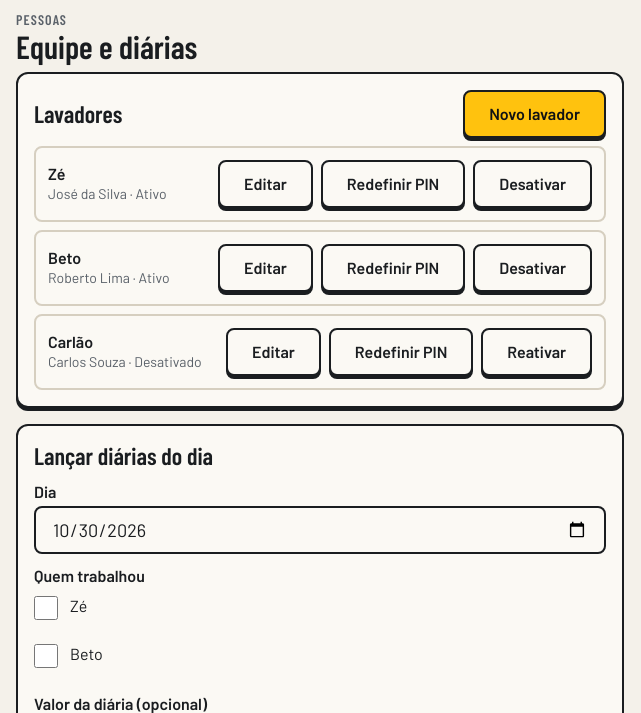
Test: Equipe e diárias › lança as diárias do dia dos lavadores marcados com a diária padrão
Click the checkbox labelled "Zé": (46, 608) [34,596,58,620]
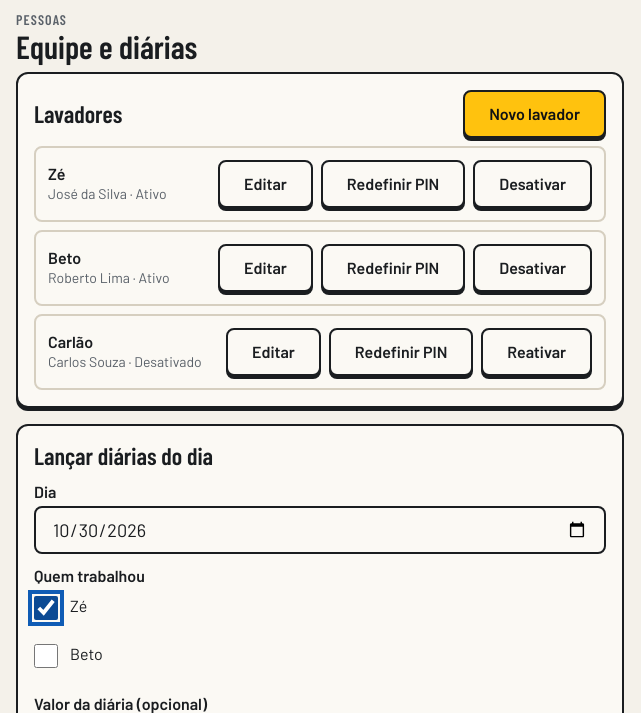
Click the checkbox labelled "Beto": (46, 656) [34,644,58,668]
(page scrolled)
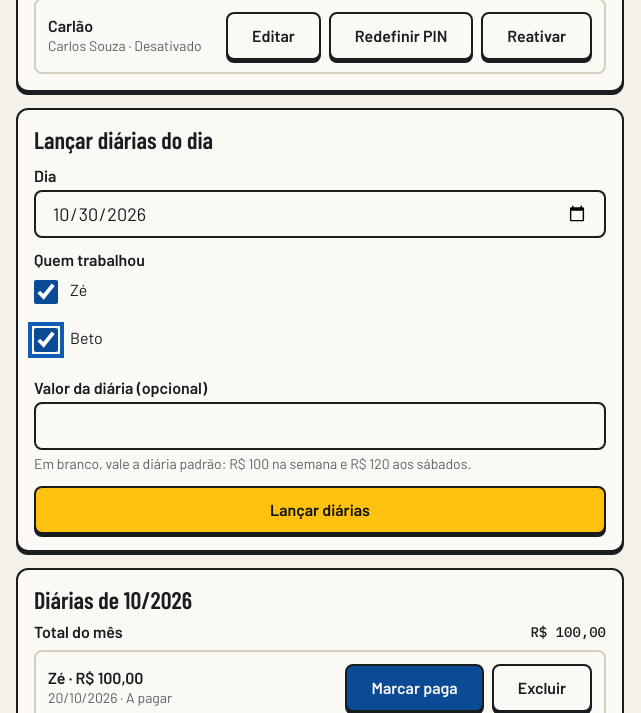
Click the button "Lançar diárias": (320, 510) [34,486,606,534]
(page scrolled)
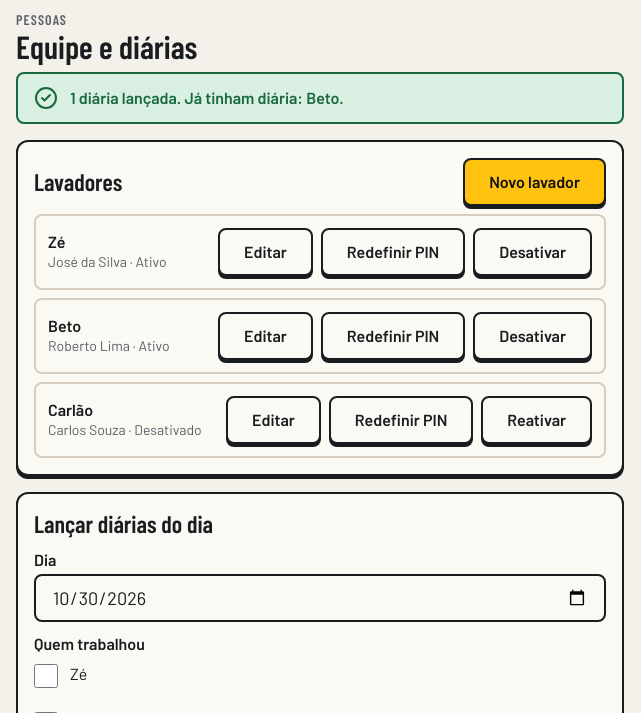
Check: the text "1 diária lançada. Já tinham diária: Beto." is shown, box [70,88,344,107]
